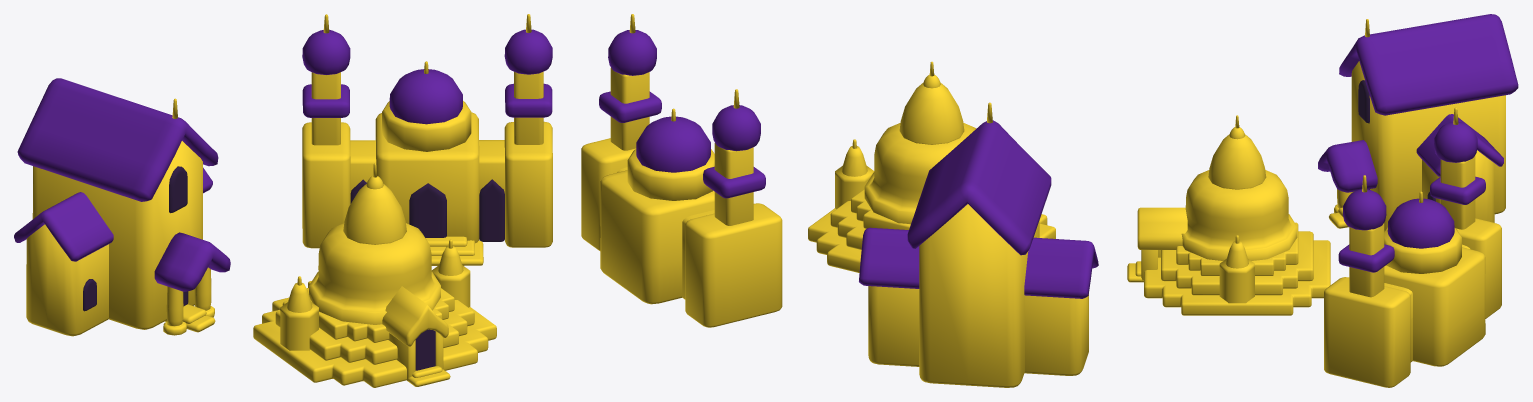
File: Temple.gltf
3 renders of one model, left to right at view 1: azimuth 30°, elevation 25°; view 2: azimuth 150°, elevation 25°; view 3: azimuth 270°, elevation 25°, orthographic. The views are drawn at different scales.
Parts seen in each view (by area): view 1: temple01, temple02, temple03; view 2: temple01, temple02, temple03; view 3: temple02, temple01, temple03.
Boxes of the visible parts, left/top/right/bottom form: temple01: left=14, top=78, right=230, bottom=336; temple02: left=302, top=14, right=552, bottom=265; temple03: left=253, top=163, right=496, bottom=387; temple01: left=859, top=102, right=1098, bottom=387; temple02: left=581, top=14, right=782, bottom=327; temple03: left=808, top=61, right=1055, bottom=272; temple02: left=1324, top=107, right=1501, bottom=387; temple01: left=1318, top=14, right=1518, bottom=231; temple03: left=1127, top=115, right=1330, bottom=315.
Bounding box in the file's own units: 14.53 × 5.9 × 10.48.
